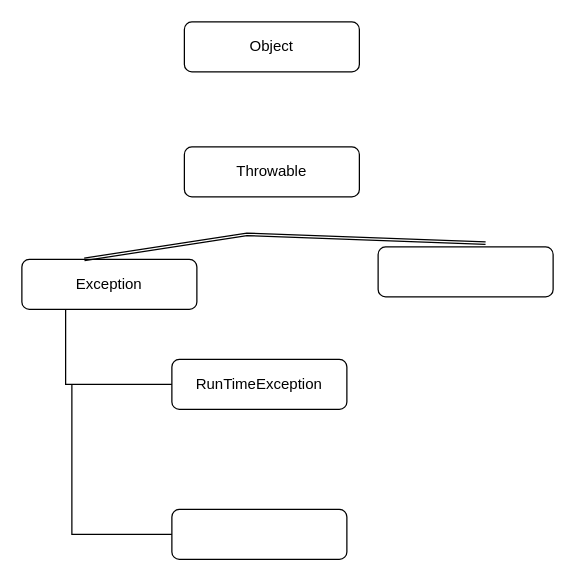
The diagram is 575 pixels wide and 581 high, and some of its shapes have lost their labels. The box of each missing label's shape, as (x1, y1, x2, y2) in pixels:
CompileTimeException: (171, 508, 347, 559)
Error: (377, 246, 553, 297)
